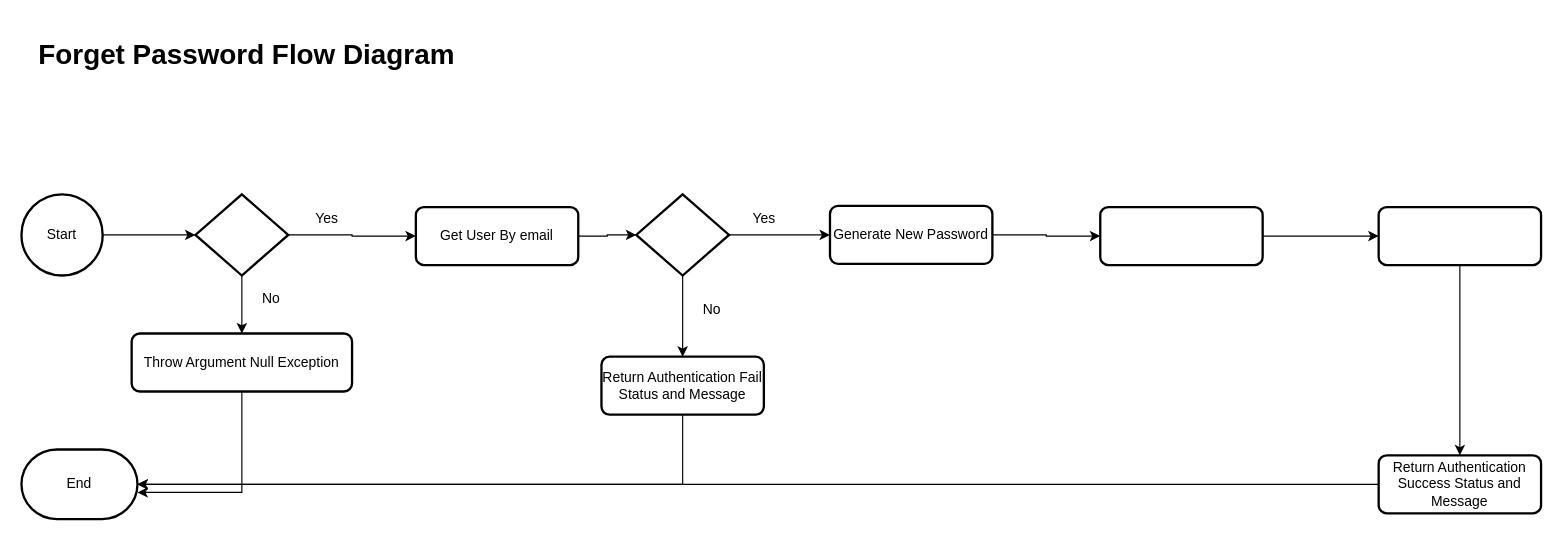
Image size: 1561x539. Some labels were removed from this diagram. The shapes that lost their labels are listed below. From the top down, each one's centre as x and y in pixels, then its label:
At (241,234): "Argument Is Valid".
At (682,234): "Is User Exists".
At (1181,235): "Update User Password with new one".
At (1459,235): "Send new password over mail".
